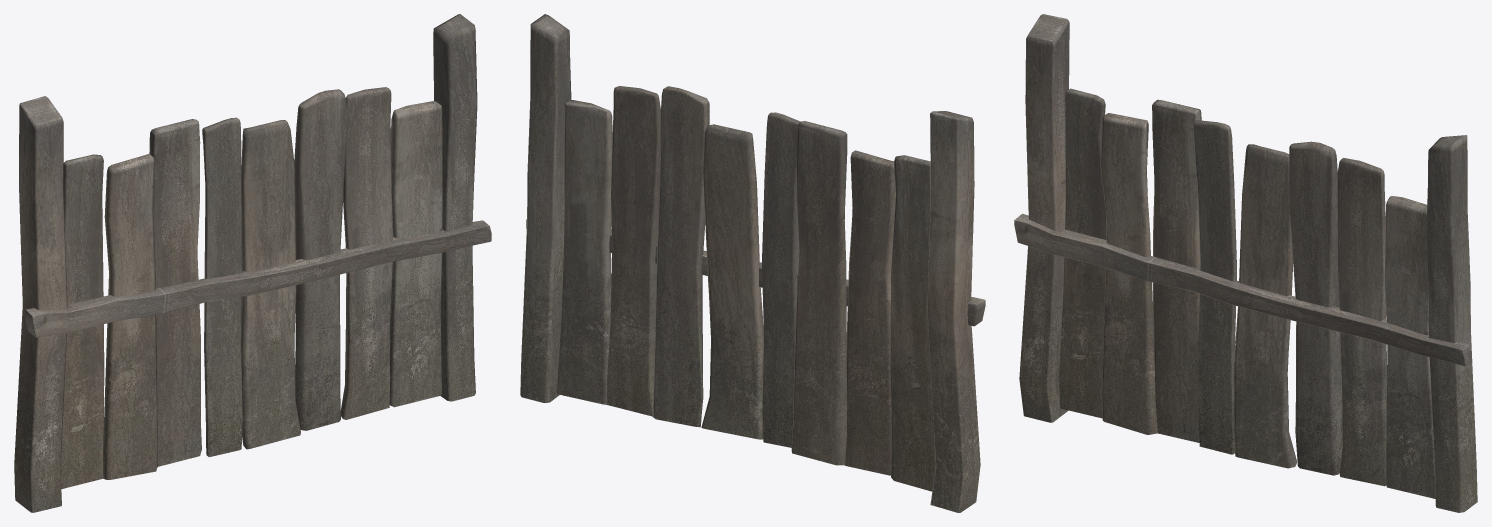
Rendered from prop_fence_02.glb.
3 views of the same model, side by side, from view 1: azimuth 30°, elevation 25°; view 2: azimuth 150°, elevation 25°; view 3: azimuth 330°, elevation 25° (orthographic).
Parts seen in each view (by area): view 1: prop_fence_03; view 2: prop_fence_03; view 3: prop_fence_03.
Boxes of the visible parts, x1,y1,x2,y2 form: prop_fence_03: [14, 14, 491, 512]; prop_fence_03: [520, 14, 985, 512]; prop_fence_03: [1014, 14, 1477, 512].
Bounding box in the file's own units: 2.83 × 2.34 × 0.2519.
1 material, 1 textured.
